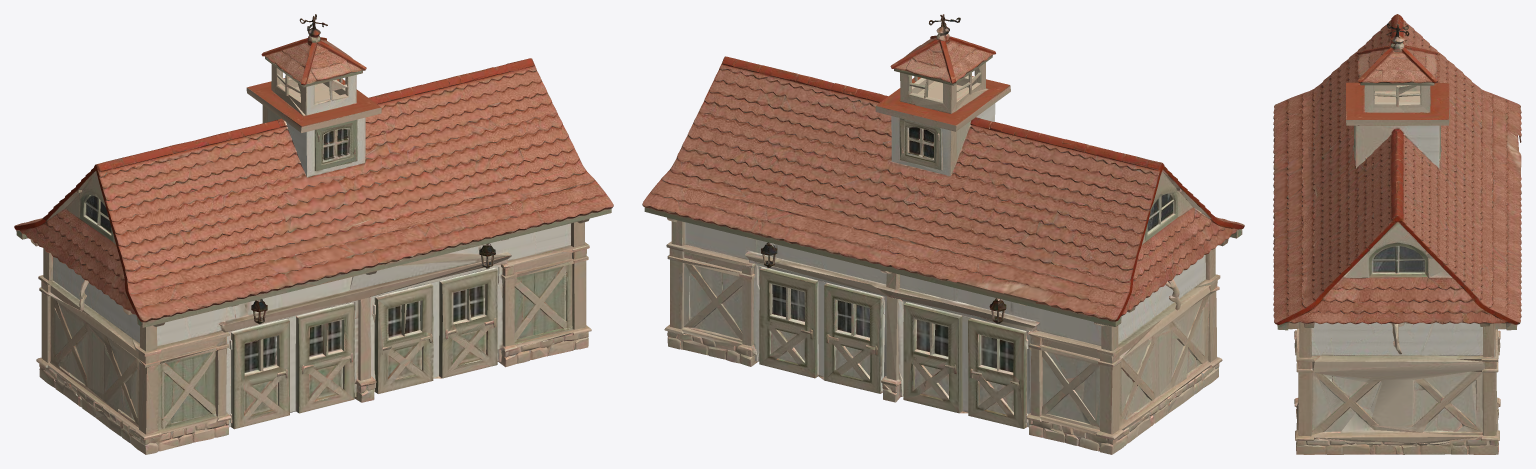
Rendered from stable_block.glb.
3 views of the same model, side by side, from view 1: azimuth 30°, elevation 25°; view 2: azimuth 150°, elevation 25°; view 3: azimuth 270°, elevation 25° (orthographic). The views are drawn at different scales.
Bounding box in the file's own units: 1.9 × 1.33 × 0.9114.
1 material, 1 textured.
